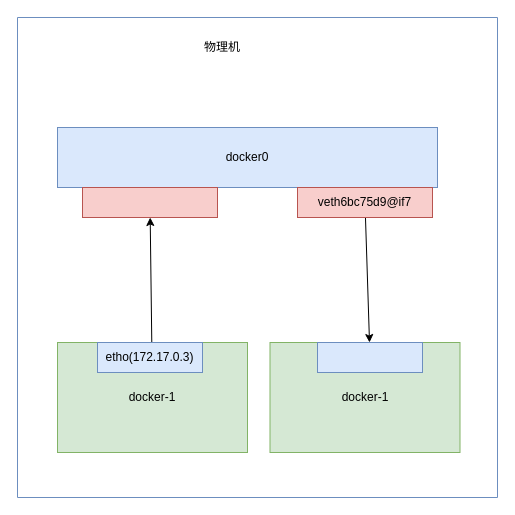
Image size: 515x515. Some labels were removed from this diagram. The centre of each missing label's shape, as x and y in pixels:
"etho(172.17.0.2)" goes at point (369, 357).
"veth1fc062f@if9" goes at point (150, 202).
